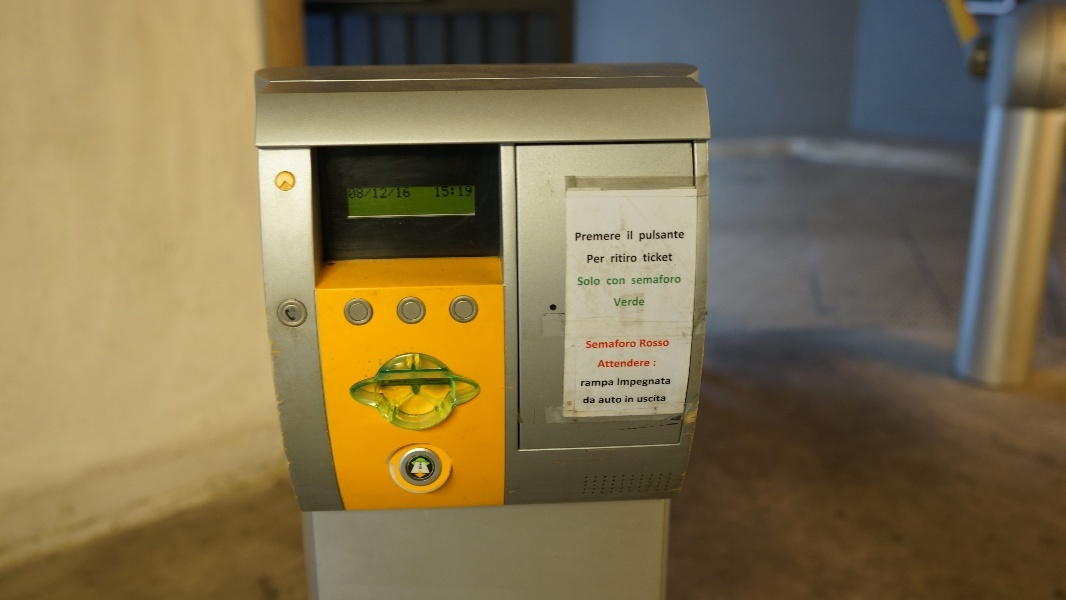text: (353, 187, 368, 200), (369, 187, 384, 200), (385, 187, 400, 200), (449, 186, 464, 199), (641, 230, 656, 243), (657, 230, 672, 243), (641, 273, 656, 285), (657, 273, 672, 285), (435, 186, 448, 199), (657, 253, 673, 263), (673, 230, 685, 243), (625, 297, 640, 307), (593, 339, 608, 349), (609, 339, 624, 349), (625, 378, 640, 388), (641, 378, 656, 388), (641, 359, 657, 368), (657, 378, 671, 388), (577, 233, 592, 242), (593, 233, 608, 242), (609, 359, 624, 368), (625, 359, 640, 368), (401, 187, 411, 200), (643, 253, 656, 263), (578, 277, 592, 286), (612, 254, 624, 264), (625, 254, 637, 264), (625, 339, 637, 349), (641, 340, 656, 348), (593, 381, 608, 389), (641, 395, 656, 403), (609, 233, 621, 242), (628, 231, 640, 240), (593, 255, 605, 264), (465, 186, 473, 199), (614, 297, 624, 307), (626, 396, 640, 403), (609, 279, 625, 285), (632, 273, 640, 285), (673, 273, 681, 285), (657, 340, 669, 348), (609, 397, 622, 404), (582, 381, 592, 389), (657, 395, 666, 403), (593, 277, 600, 286), (601, 359, 608, 368), (618, 378, 624, 388), (584, 397, 592, 404), (600, 397, 608, 404), (348, 187, 352, 200), (587, 339, 592, 349), (641, 297, 645, 307), (609, 381, 614, 389), (588, 255, 592, 264), (593, 397, 596, 404), (638, 395, 640, 403), (607, 279, 608, 285)
